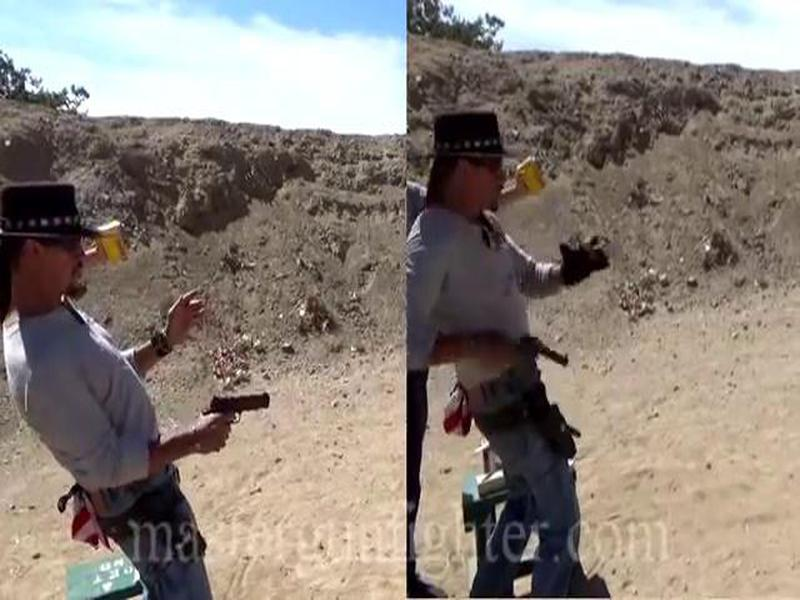Pistola: (200, 383, 275, 458)
Revolver: (503, 330, 573, 389)
